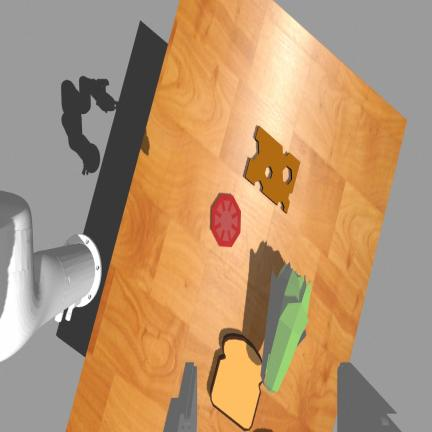cheese: (245, 126, 299, 212)
lettuce: (261, 263, 311, 392)
sliced_bread: (211, 335, 261, 430)
sliced_tomato: (212, 195, 240, 246)
